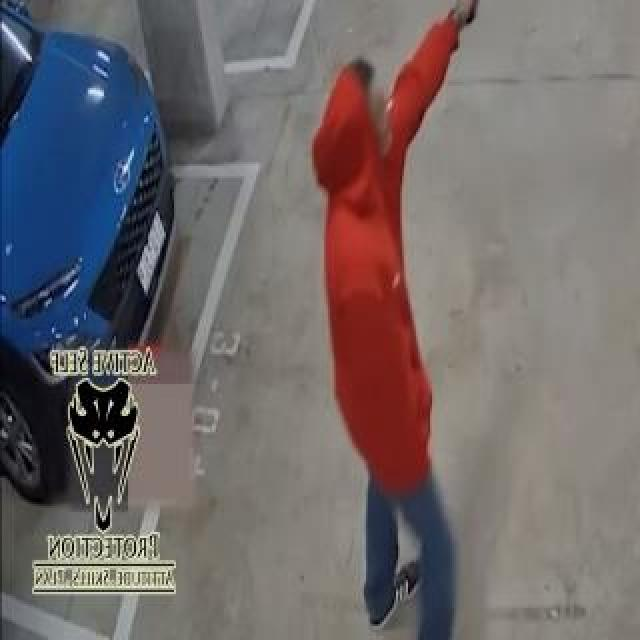Guns: (454, 0, 496, 30)
